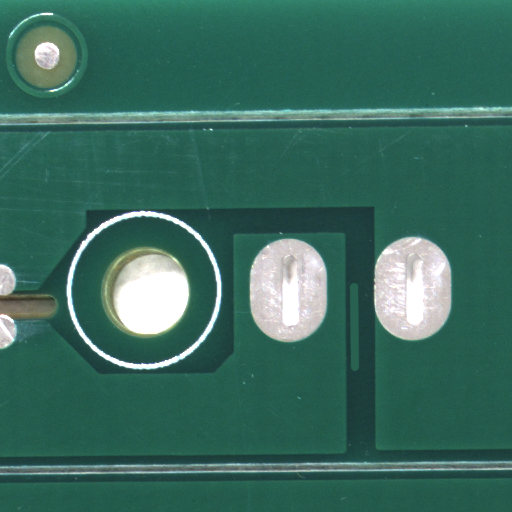Spurious_copper: (354, 327, 369, 417)
